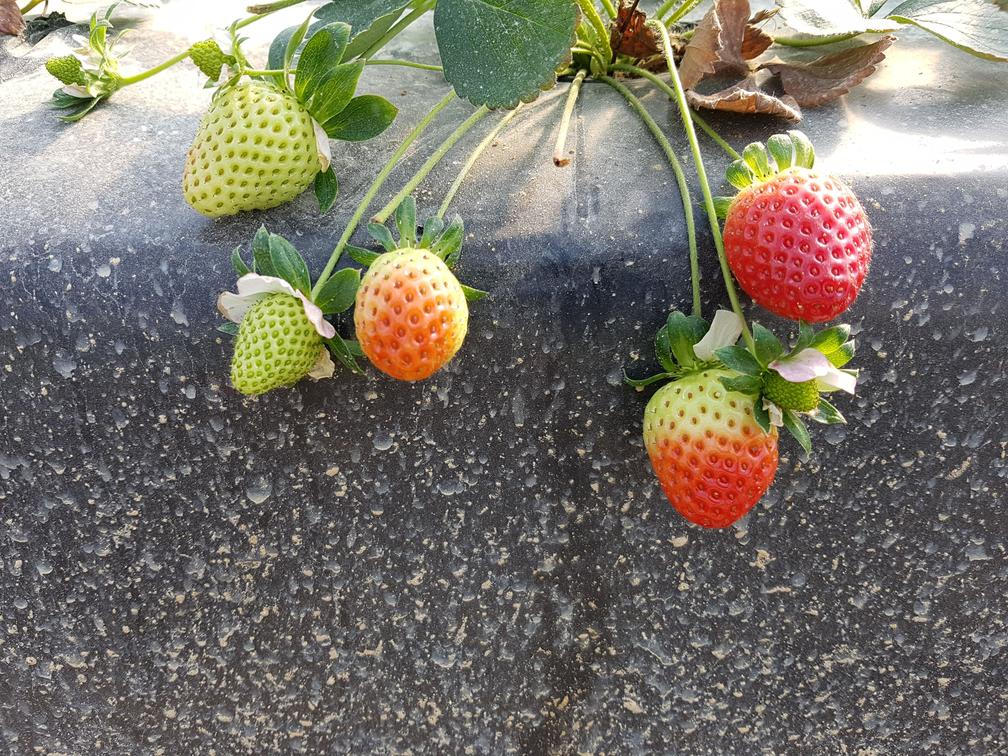Ripe: (631, 368, 783, 530), (728, 175, 886, 325), (354, 239, 479, 380)
Unripe: (181, 69, 332, 226), (219, 296, 328, 402)
